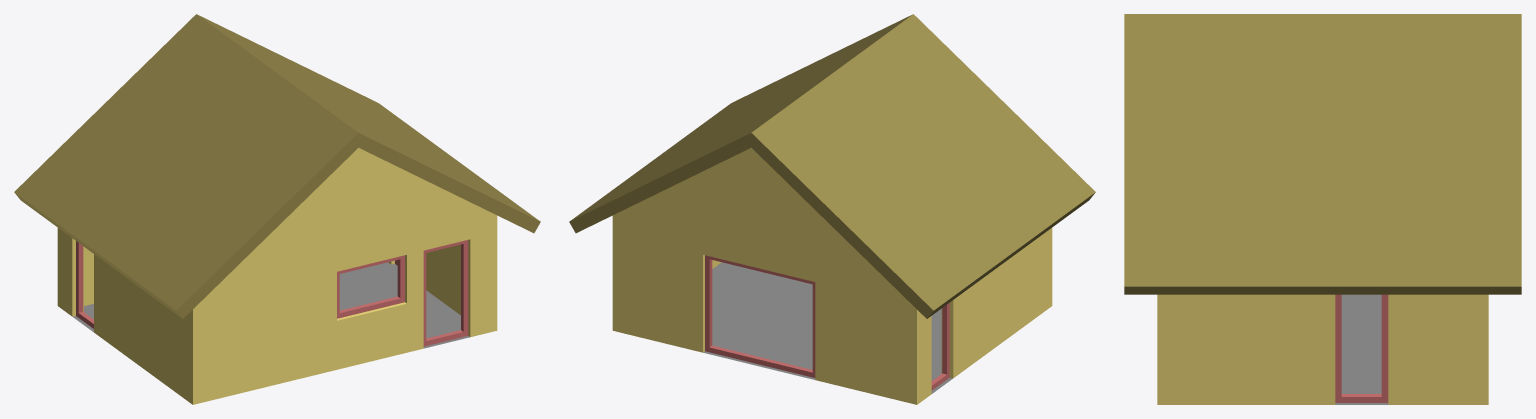
File: result.glb
3 renders of one model, left to right at view 1: azimuth 30°, elevation 25°; view 2: azimuth 150°, elevation 25°; view 3: azimuth 270°, elevation 25°, orthographic. The views are drawn at different scales.
Visible parts, largest first — view 1: 8dbfcbff-ec47-483c-b932-dacace12cde1__undefined (×2), 58cc8061-423b-4817-9a93-62afdf37485e__undefined, e95cf11f-c49e-4cd7-8187-ab16bf8c0904__Plane_6, fd1c6356-f63d-431f-860f-cb9f3fffad39__Box, 475bdd7c-f210-48ae-a89e-d4e4cab3b5d3__Box_3, 9c5dfeeb-bf4c-4461-8f15-5c5864570c29__Box_12; view 2: 8dbfcbff-ec47-483c-b932-dacace12cde1__undefined (×2), 58cc8061-423b-4817-9a93-62afdf37485e__undefined, e95cf11f-c49e-4cd7-8187-ab16bf8c0904__Plane_6, ec409afb-b9a7-48cd-a8f4-32856b495bec__Box_9, 9c5dfeeb-bf4c-4461-8f15-5c5864570c29__Box_12; view 3: 8dbfcbff-ec47-483c-b932-dacace12cde1__undefined, 58cc8061-423b-4817-9a93-62afdf37485e__undefined, e95cf11f-c49e-4cd7-8187-ab16bf8c0904__Plane_6, bbcfc65f-9659-4253-86d9-f2d369fdbadc__Box_15.
Boxes of the visible parts, box(x1,y1,x2,y2) form: 8dbfcbff-ec47-483c-b932-dacace12cde1__undefined (×2): box(14, 14, 540, 318); 58cc8061-423b-4817-9a93-62afdf37485e__undefined: box(57, 147, 497, 404); e95cf11f-c49e-4cd7-8187-ab16bf8c0904__Plane_6: box(72, 262, 469, 348); fd1c6356-f63d-431f-860f-cb9f3fffad39__Box: box(423, 240, 468, 346); 475bdd7c-f210-48ae-a89e-d4e4cab3b5d3__Box_3: box(337, 255, 404, 318); 9c5dfeeb-bf4c-4461-8f15-5c5864570c29__Box_12: box(76, 241, 93, 328); 8dbfcbff-ec47-483c-b932-dacace12cde1__undefined (×2): box(569, 14, 1095, 318); 58cc8061-423b-4817-9a93-62afdf37485e__undefined: box(612, 147, 1052, 404); e95cf11f-c49e-4cd7-8187-ab16bf8c0904__Plane_6: box(703, 262, 952, 393); ec409afb-b9a7-48cd-a8f4-32856b495bec__Box_9: box(705, 255, 815, 377); 9c5dfeeb-bf4c-4461-8f15-5c5864570c29__Box_12: box(931, 303, 949, 390); 8dbfcbff-ec47-483c-b932-dacace12cde1__undefined: box(1124, 14, 1521, 294); 58cc8061-423b-4817-9a93-62afdf37485e__undefined: box(1157, 294, 1488, 404); e95cf11f-c49e-4cd7-8187-ab16bf8c0904__Plane_6: box(1335, 294, 1388, 404); bbcfc65f-9659-4253-86d9-f2d369fdbadc__Box_15: box(1335, 294, 1388, 402).
Size of the model in its own units: 779 by 500 by 600.
